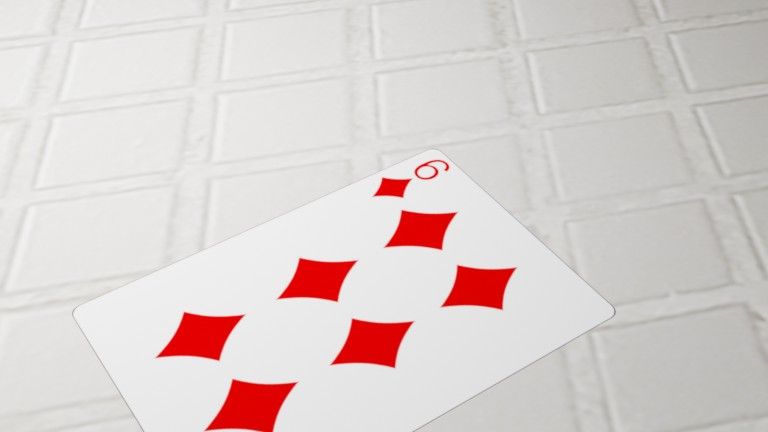6_of_diamonds: (356, 150, 461, 213), (190, 431, 328, 432)
